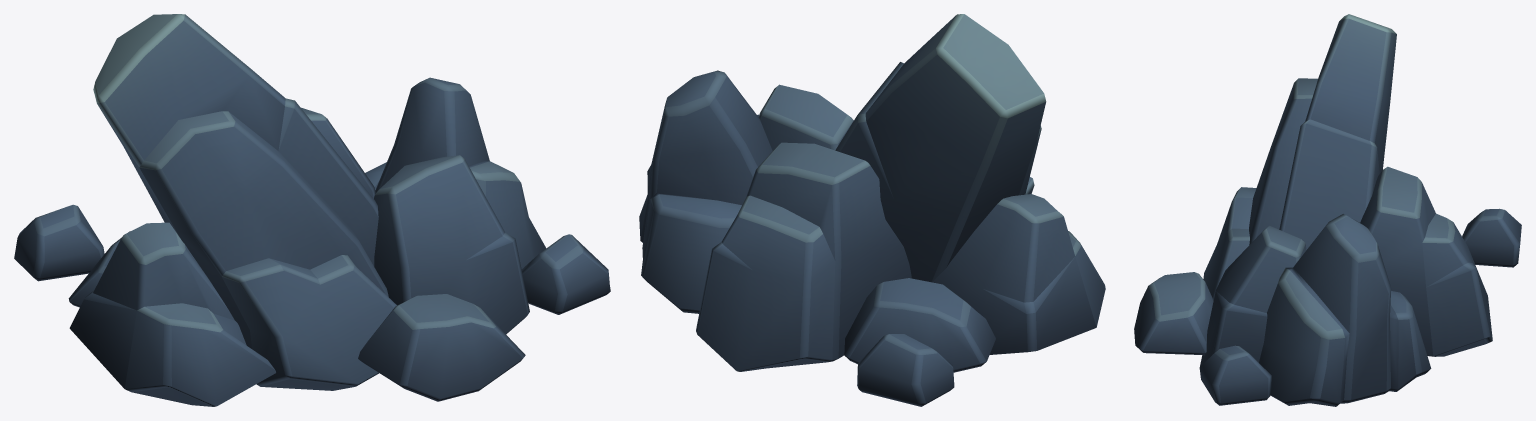
Rendered from rock_arrangement_medium_2.fbx.
The picture shows the model from 3 angles, left to right: view 1: azimuth 30°, elevation 25°; view 2: azimuth 150°, elevation 25°; view 3: azimuth 270°, elevation 25°; orthographic projection. The views are drawn at different scales.
Parts seen in each view (by area): view 1: rock_arrangement_medium_2; view 2: rock_arrangement_medium_2; view 3: rock_arrangement_medium_2.
Part boxes in pixels (x1,y1,x2,y2): rock_arrangement_medium_2: [14, 14, 610, 406]; rock_arrangement_medium_2: [639, 14, 1105, 406]; rock_arrangement_medium_2: [1134, 14, 1521, 406].
Size of the model in its own units: 652 by 488 by 598.
1 material, 1 textured.
